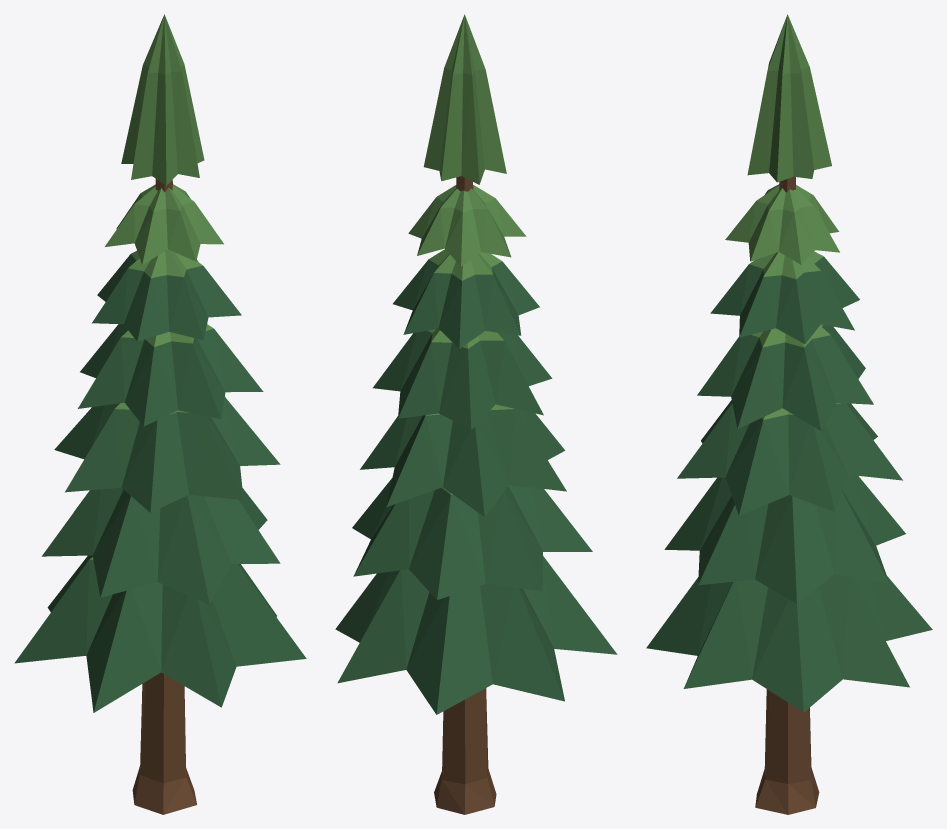
Rendered from SM_Tree_Pine_B.fbx.
3 renders of one model, left to right at view 1: azimuth 30°, elevation 25°; view 2: azimuth 150°, elevation 25°; view 3: azimuth 270°, elevation 25°, orthographic.
Parts seen in each view (by area): view 1: SM_Tree_Pine_B; view 2: SM_Tree_Pine_B; view 3: SM_Tree_Pine_B.
Part boxes in pixels (left/top/right/bottom): SM_Tree_Pine_B: left=14, top=14, right=306, bottom=814; SM_Tree_Pine_B: left=335, top=14, right=617, bottom=814; SM_Tree_Pine_B: left=646, top=14, right=932, bottom=814.
Bounding box in the file's own units: 3.29 × 10.02 × 3.3.
